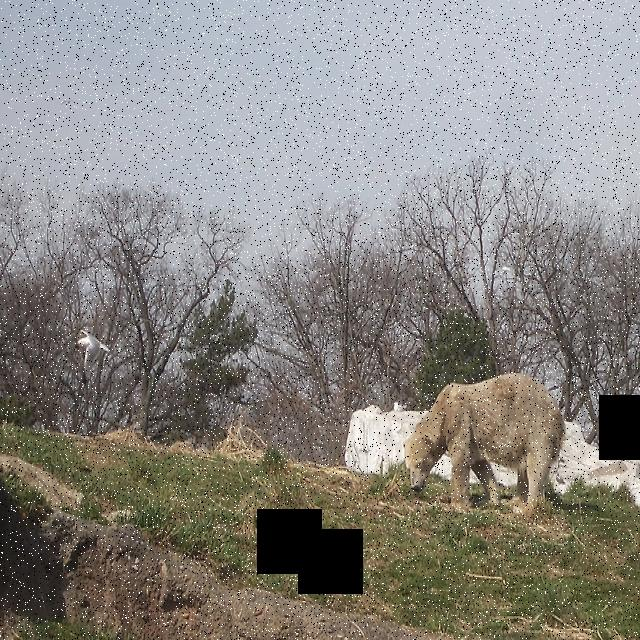Bear: (383, 370, 568, 509)
